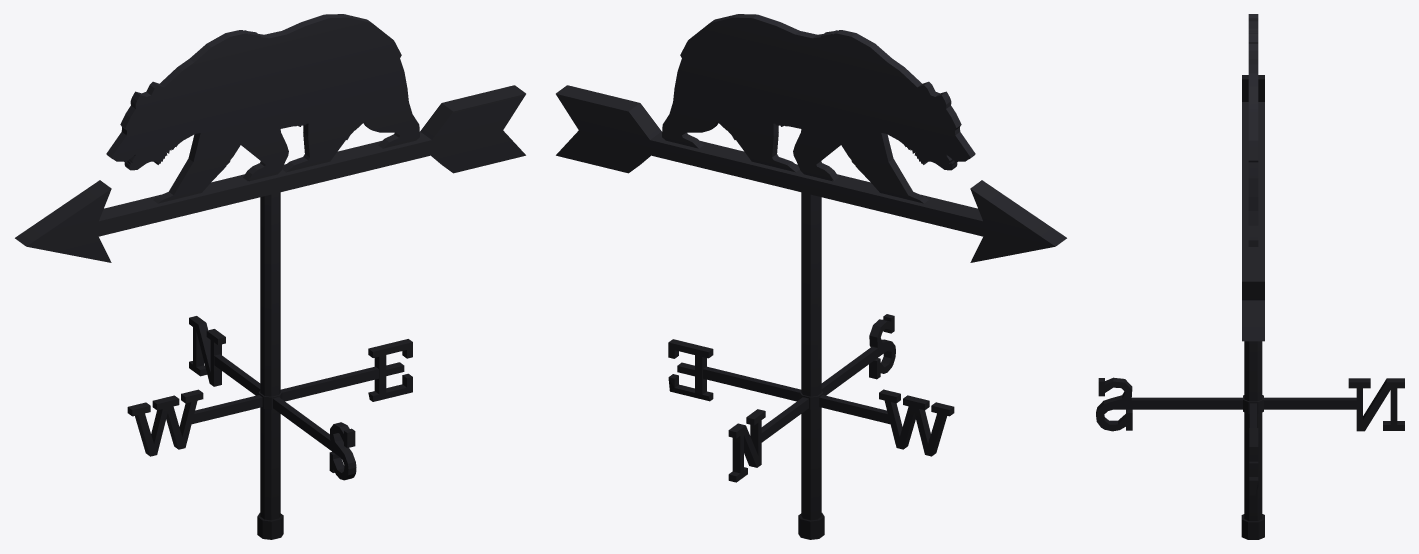
Rendered from Prop_Weathervane_05.obj.
3 views of the same model, side by side, from view 1: azimuth 30°, elevation 25°; view 2: azimuth 150°, elevation 25°; view 3: azimuth 270°, elevation 25° (orthographic). The views are drawn at different scales.
Parts seen in each view (by area): view 1: Prop_Weathervane_Top_05, Prop_Weathervane_05; view 2: Prop_Weathervane_Top_05, Prop_Weathervane_05; view 3: Prop_Weathervane_05, Prop_Weathervane_Top_05.
Part boxes in pixels (x1,y1,x2,y2): Prop_Weathervane_Top_05: (15, 14, 525, 262); Prop_Weathervane_05: (127, 192, 412, 539); Prop_Weathervane_Top_05: (556, 14, 1066, 262); Prop_Weathervane_05: (668, 192, 954, 539); Prop_Weathervane_05: (1096, 341, 1404, 539); Prop_Weathervane_Top_05: (1242, 14, 1264, 341).
Size of the model in its own units: 1.04 by 1.01 by 0.5747.
1 material, 1 textured.
